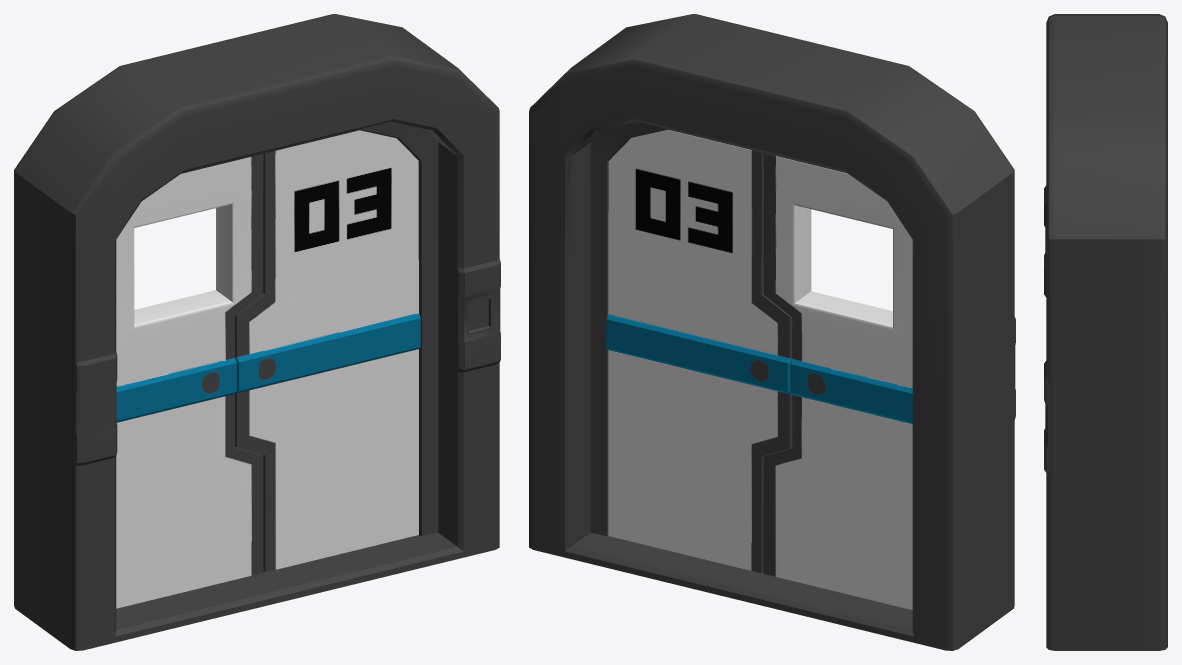
Rendered from PuertaSalamedicaV5 1.fbx.
3 renders of one model, left to right at view 1: azimuth 30°, elevation 25°; view 2: azimuth 150°, elevation 25°; view 3: azimuth 270°, elevation 25°, orthographic. The views are drawn at different scales.
Parts seen in each view (by area): view 1: Marco_puerta_SM, Puerta_SalaMedica_Dch, Puerta_SalaMedica_Izq; view 2: Marco_puerta_SM, Puerta_SalaMedica_Dch, Puerta_SalaMedica_Izq; view 3: Marco_puerta_SM.
Part boxes in pixels (x1,y1,x2,y2): Marco_puerta_SM: (14, 14, 500, 650); Puerta_SalaMedica_Dch: (235, 130, 420, 571); Puerta_SalaMedica_Izq: (116, 154, 263, 608); Marco_puerta_SM: (529, 14, 1015, 650); Puerta_SalaMedica_Dch: (606, 130, 792, 573); Puerta_SalaMedica_Izq: (763, 153, 912, 609); Marco_puerta_SM: (1044, 14, 1167, 650).
Size of the model in its own units: 201 by 232 by 53.5.
2 materials, 2 textured.
